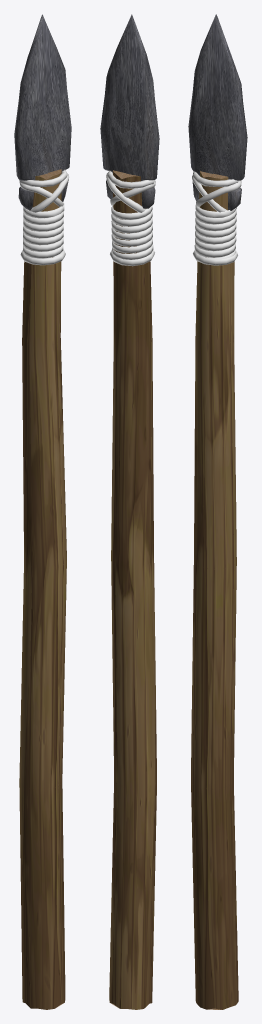
Rendered from StoneSpear.fbx.
3 renders of one model, left to right at view 1: azimuth 30°, elevation 25°; view 2: azimuth 150°, elevation 25°; view 3: azimuth 330°, elevation 25°, orthographic.
Visible parts, largest first — view 1: Model; view 2: Model; view 3: Model.
Boxes of the visible parts, bbox=[...] form: Model: bbox=[14, 14, 71, 1009]; Model: bbox=[100, 14, 159, 1009]; Model: bbox=[188, 14, 247, 1009].
Size of the model in its own units: 26.71 by 447 by 19.39.
